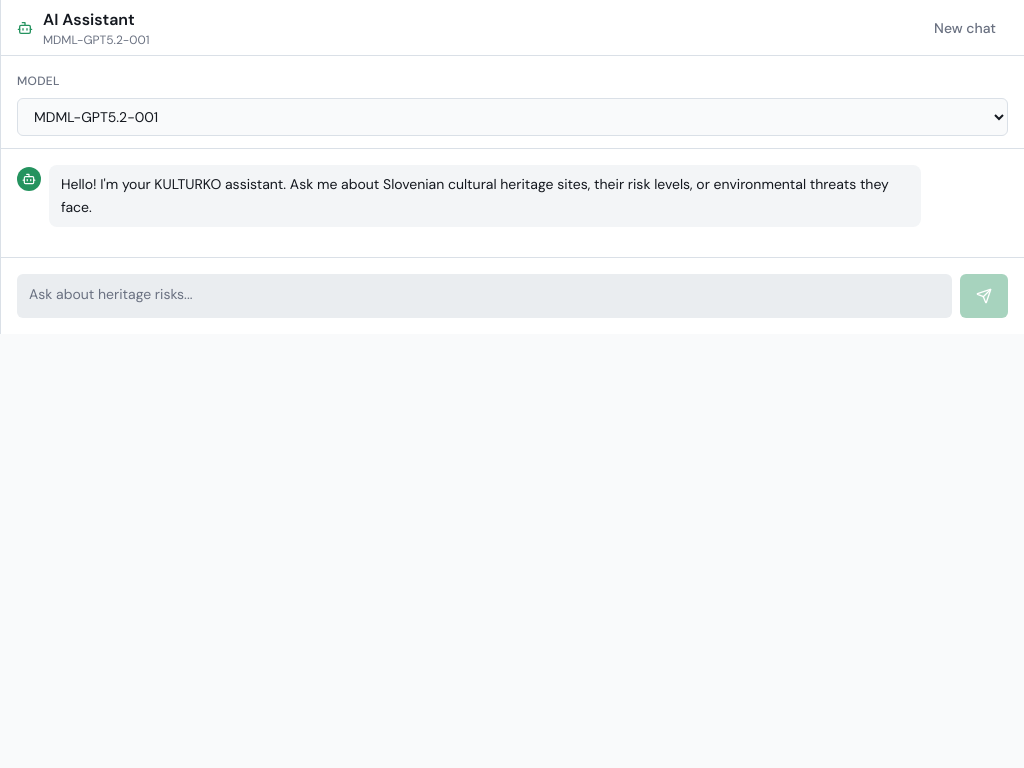
Test: ChatSidebar › loads chat models, sends a message, and renders citations
Type "What is happening near Ptuj?" into the text box named "ask the ai assistant about heritage risks" at (484, 296), box [17, 274, 952, 318]
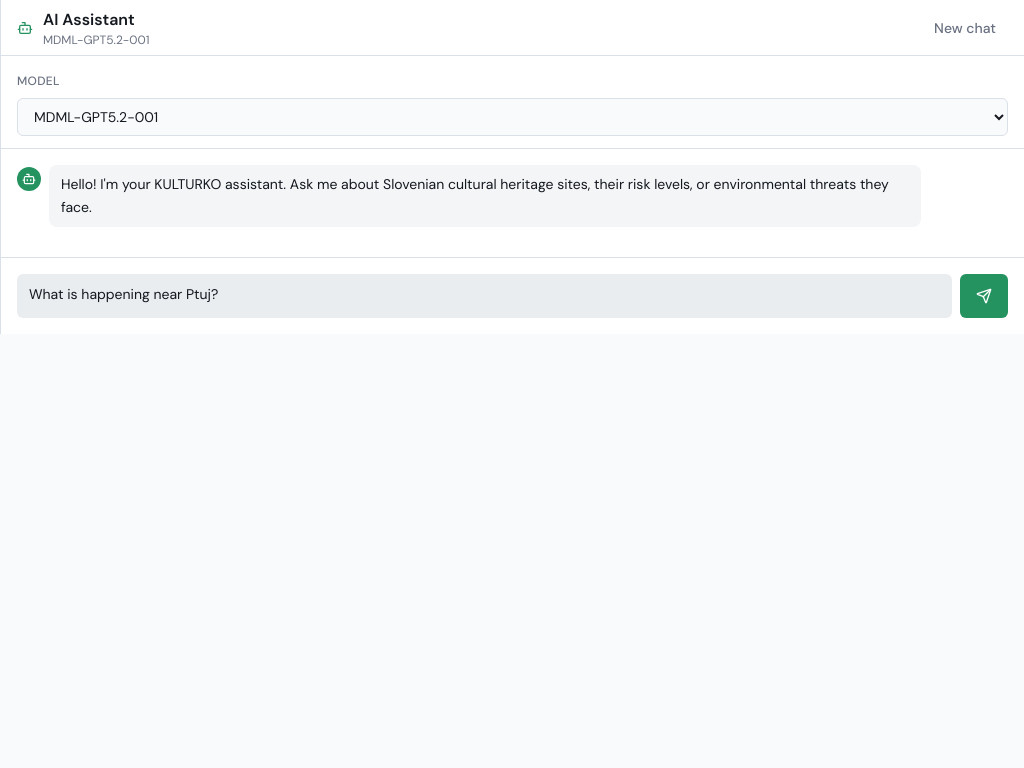
Click the button named "send message" at (984, 296), box [960, 274, 1008, 318]
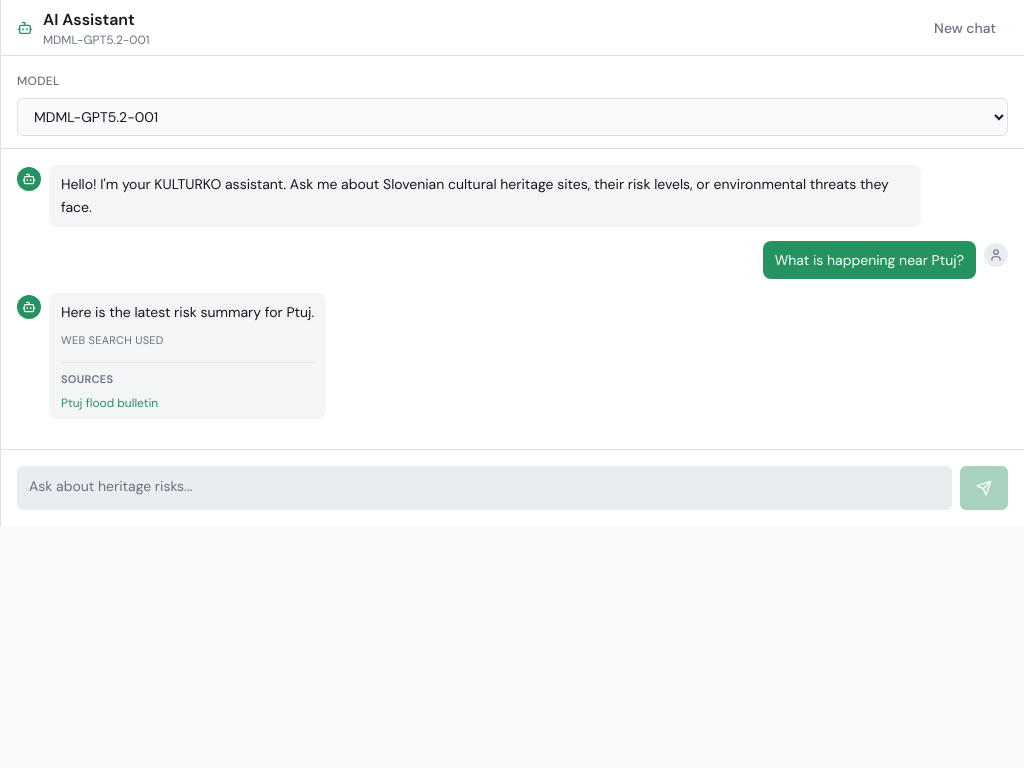
Expected: the text "Here is the latest risk summary for Ptuj." is shown, [61, 301, 314, 324]
